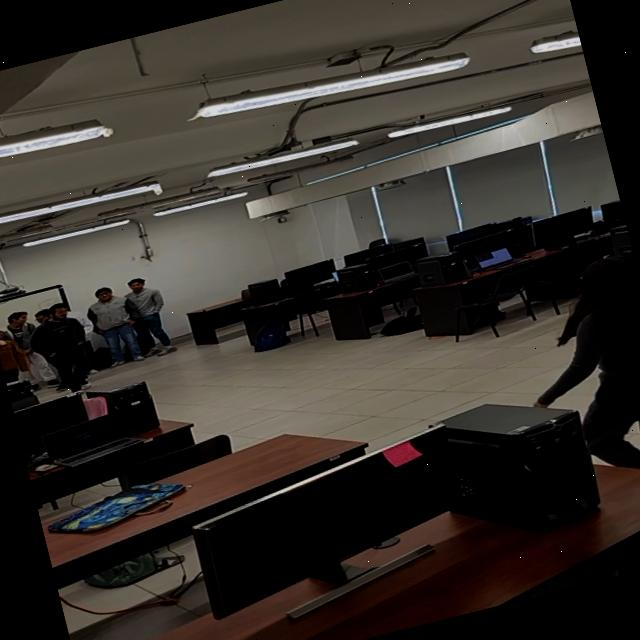Persona: (549, 243, 640, 457), (25, 302, 98, 386), (88, 277, 148, 370), (124, 274, 181, 352)
